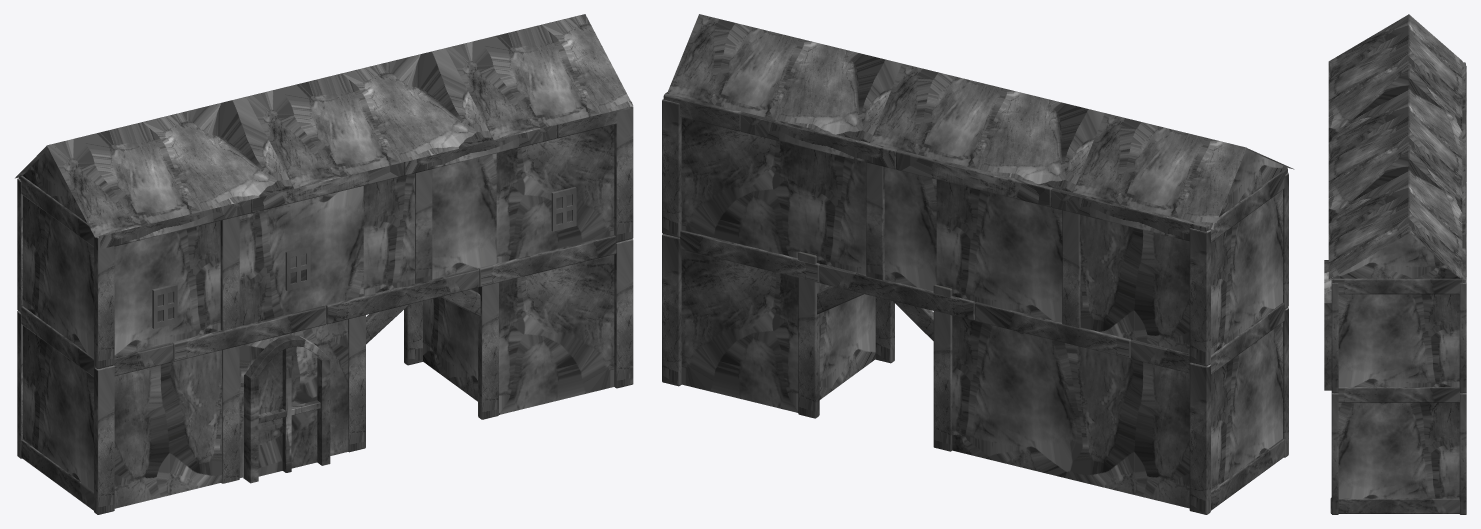
Rendered from house 5.fbx.
3 views of the same model, side by side, from view 1: azimuth 30°, elevation 25°; view 2: azimuth 150°, elevation 25°; view 3: azimuth 270°, elevation 25° (orthographic). The views are drawn at different scales.
Parts seen in each view (by area): view 1: stone wall 1.051; view 2: stone wall 1.051; view 3: stone wall 1.051.
Boxes of the visible parts, box(x1,y1,x2,y2) form: stone wall 1.051: box(15, 14, 633, 514); stone wall 1.051: box(662, 14, 1294, 514); stone wall 1.051: box(1324, 14, 1466, 514).
Size of the model in its own units: 813 by 486 by 223.
